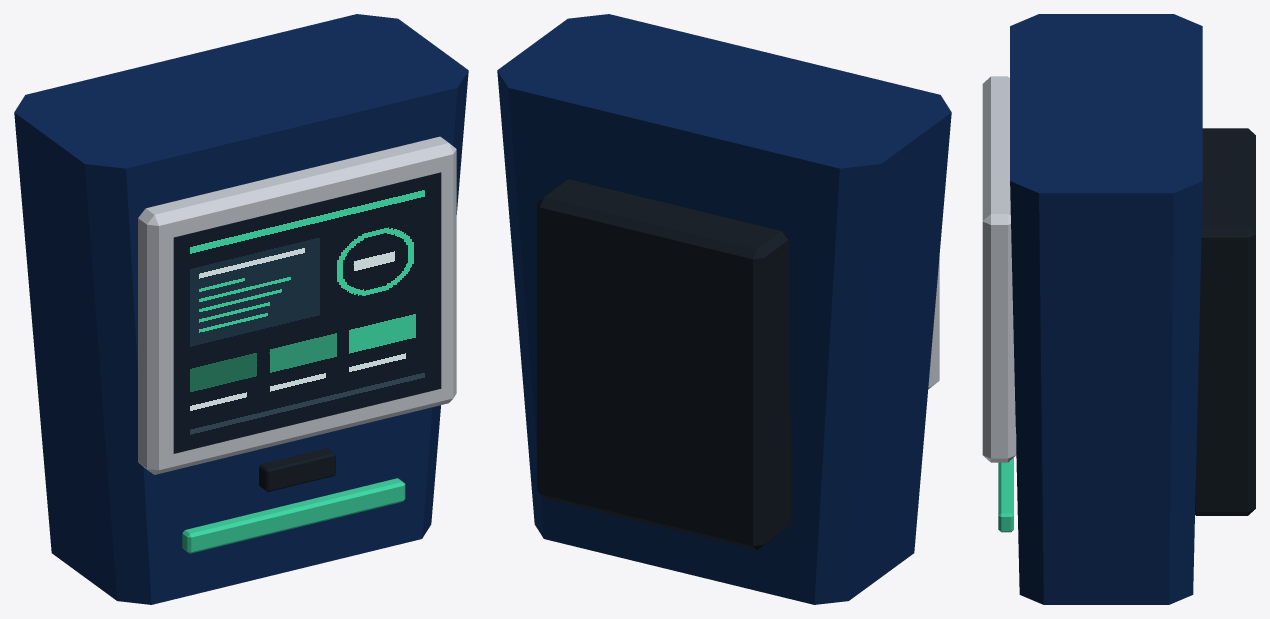
Rendered from terminal-wall-compact-daeyang.glb.
The picture shows the model from 3 angles, left to right: view 1: azimuth 30°, elevation 25°; view 2: azimuth 150°, elevation 25°; view 3: azimuth 270°, elevation 25°; orthographic projection. The views are drawn at different scales.
Parts seen in each view (by area): view 1: Housing, Display, Trim, Identity, Rubber; view 2: Housing, Rubber, Trim; view 3: Housing, Rubber, Trim, Identity.
Part boxes in pixels (bbox=[...]): Housing: bbox=[14, 14, 468, 604]; Display: bbox=[173, 172, 441, 453]; Trim: bbox=[138, 136, 456, 474]; Identity: bbox=[182, 478, 405, 553]; Rubber: bbox=[259, 448, 335, 491]; Housing: bbox=[497, 14, 951, 604]; Rubber: bbox=[537, 179, 790, 550]; Trim: bbox=[928, 257, 939, 388]; Housing: bbox=[1010, 14, 1202, 604]; Rubber: bbox=[1195, 128, 1255, 515]; Trim: bbox=[982, 76, 1016, 462]; Identity: bbox=[998, 457, 1013, 532].
Bounding box in the file's own units: 0.352 × 0.392 × 0.2288.
Materials: 5 (1 with a texture image).
